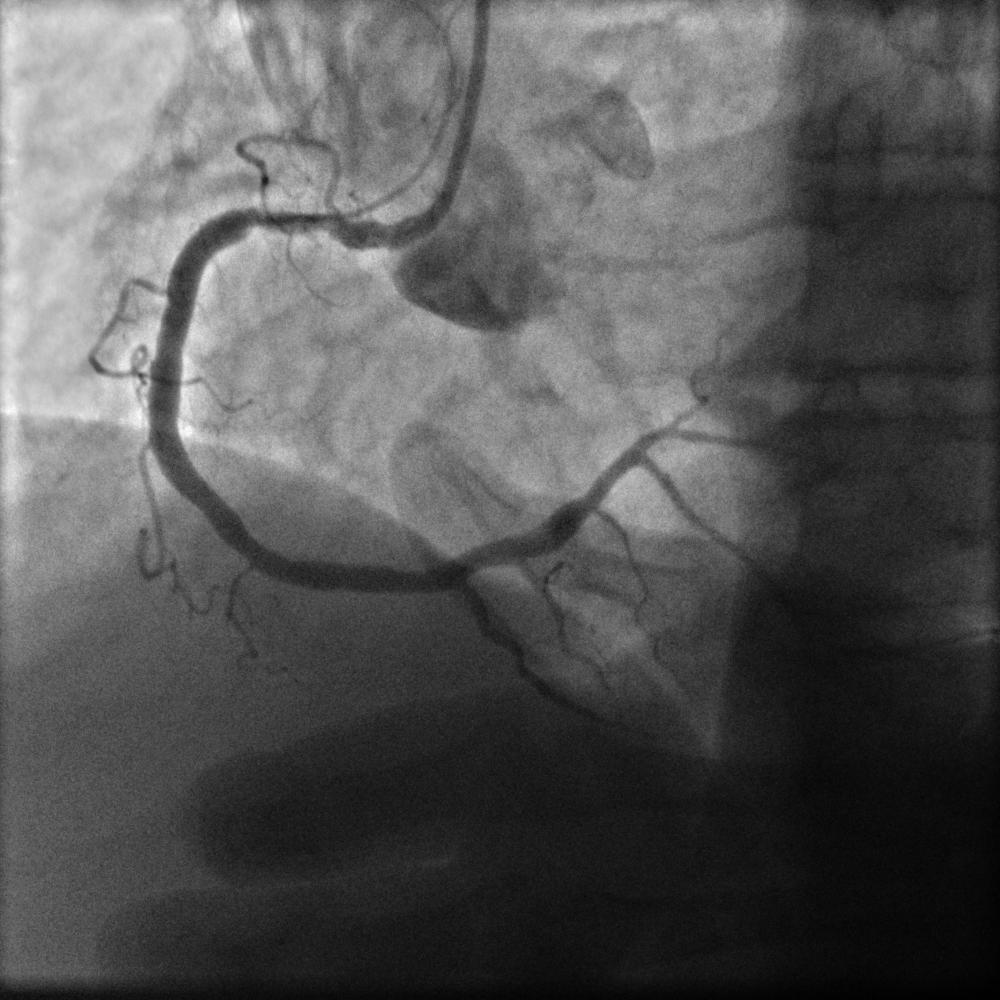Stenosis: (242, 195, 347, 246)
